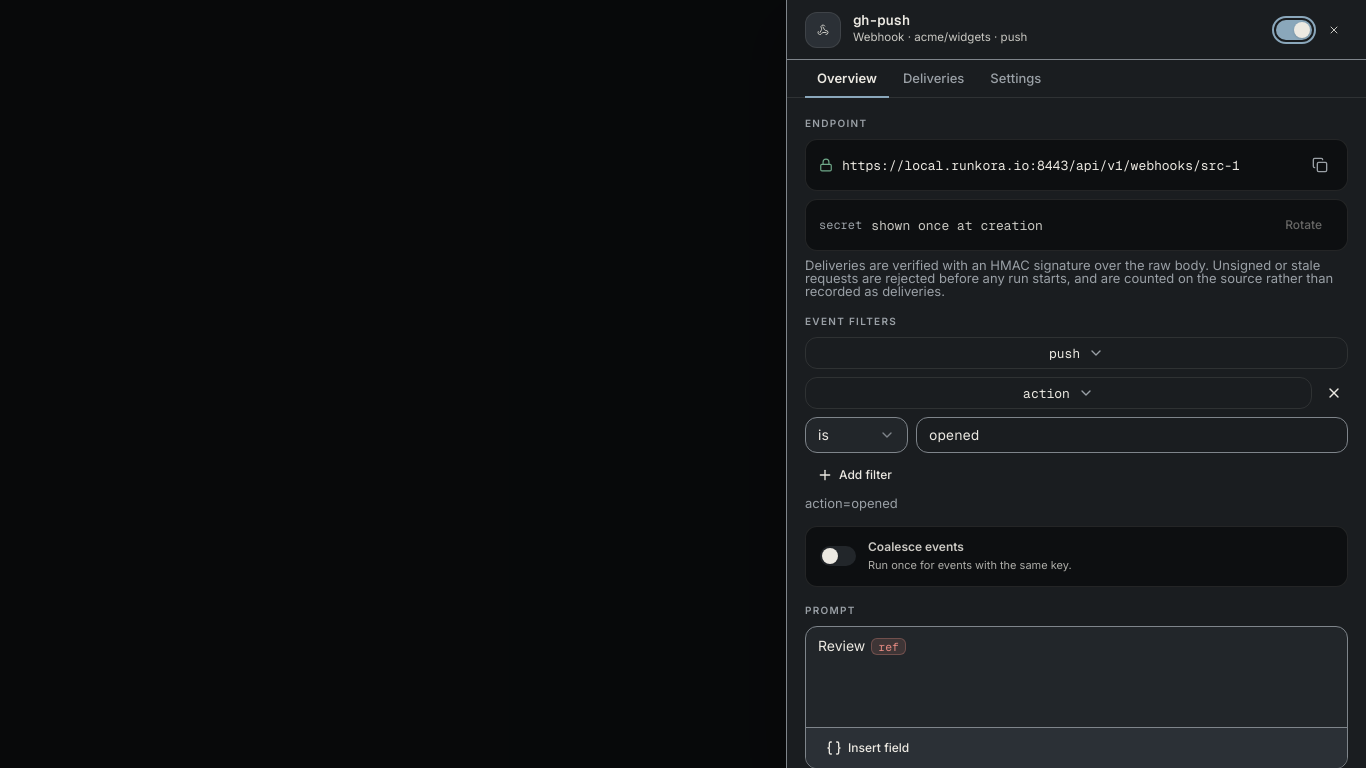
Test: event and filter editing › blocks the save on a half-written filter
The width and height of the screenshot is (1366, 768).
Clear the field named "Filter 1 values" at (1132, 435), box [916,417,1348,453]
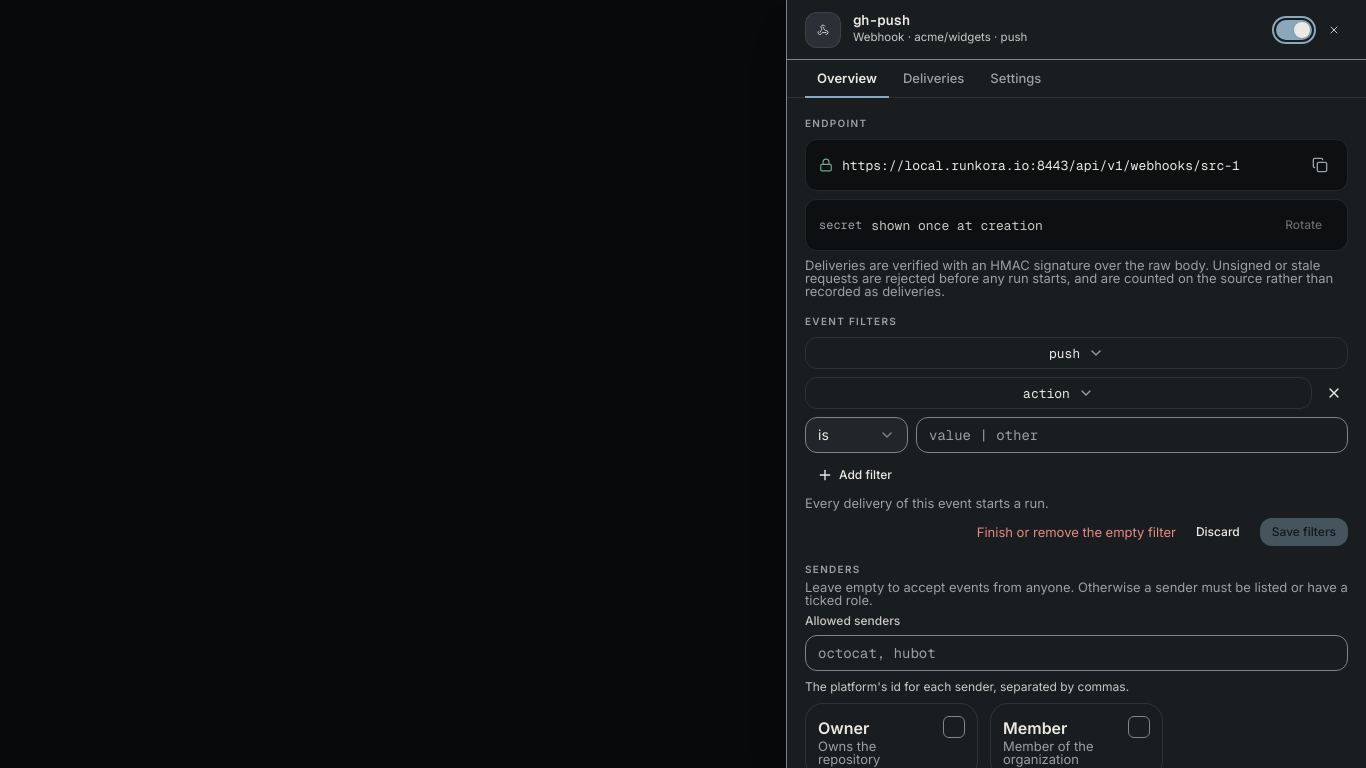
Expected: the text "Finish or remove the empty filter" is shown, [977,526,1176,538]
Expected: the button "Save filters" is disabled, [1260,518,1348,546]
